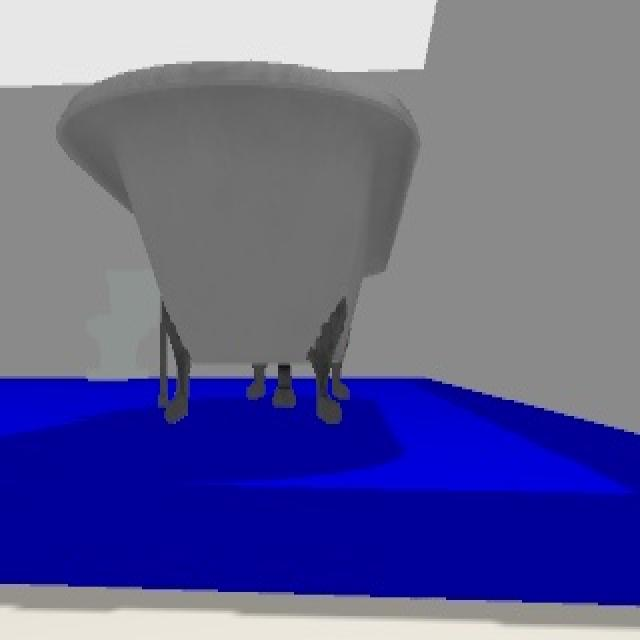bathtub: (54, 64, 426, 424)
